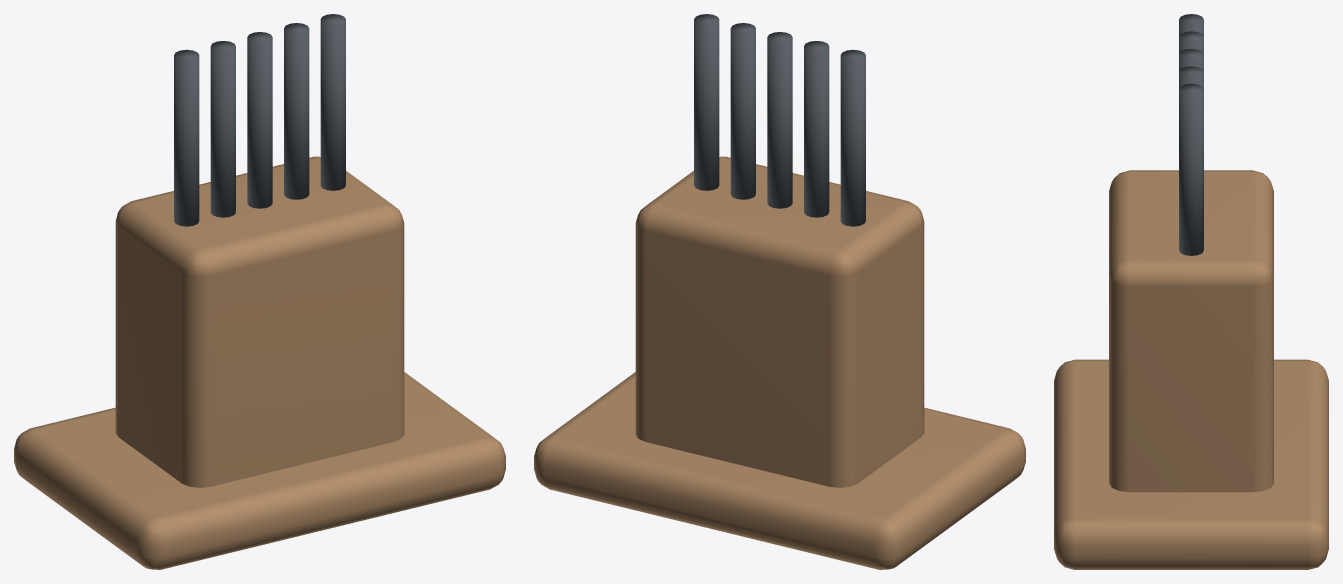
File: atelier-knife-block.glb
3 views of the same model, side by side, from view 1: azimuth 30°, elevation 25°; view 2: azimuth 150°, elevation 25°; view 3: azimuth 270°, elevation 25° (orthographic). The views are drawn at different scales.
Parts seen in each view (by area): view 1: legs.158, metal.126; view 2: legs.158, metal.126; view 3: legs.158, metal.126.
Boxes of the visible parts, left/top/right/bottom form: legs.158: left=14, top=156, right=505, bottom=569; metal.126: left=174, top=14, right=345, bottom=226; legs.158: left=534, top=156, right=1025, bottom=569; metal.126: left=694, top=14, right=865, bottom=226; legs.158: left=1054, top=170, right=1328, bottom=569; metal.126: left=1179, top=14, right=1203, bottom=255.
Size of the model in its own units: 0.3 by 0.35 by 0.2.
